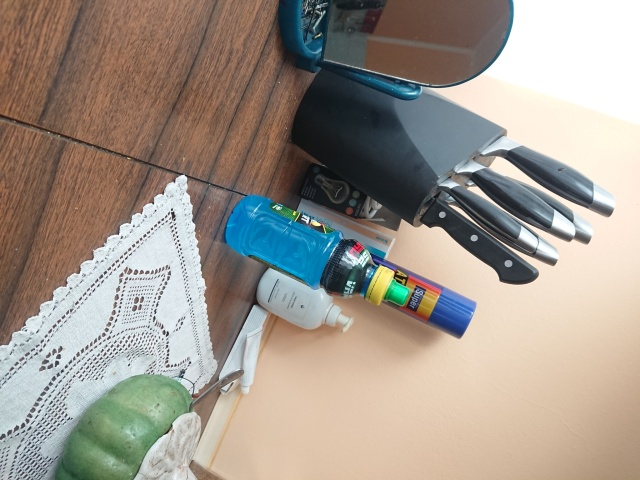Vindi Iso Sport Forest Strawberries 500mL: (223, 192, 411, 307)
